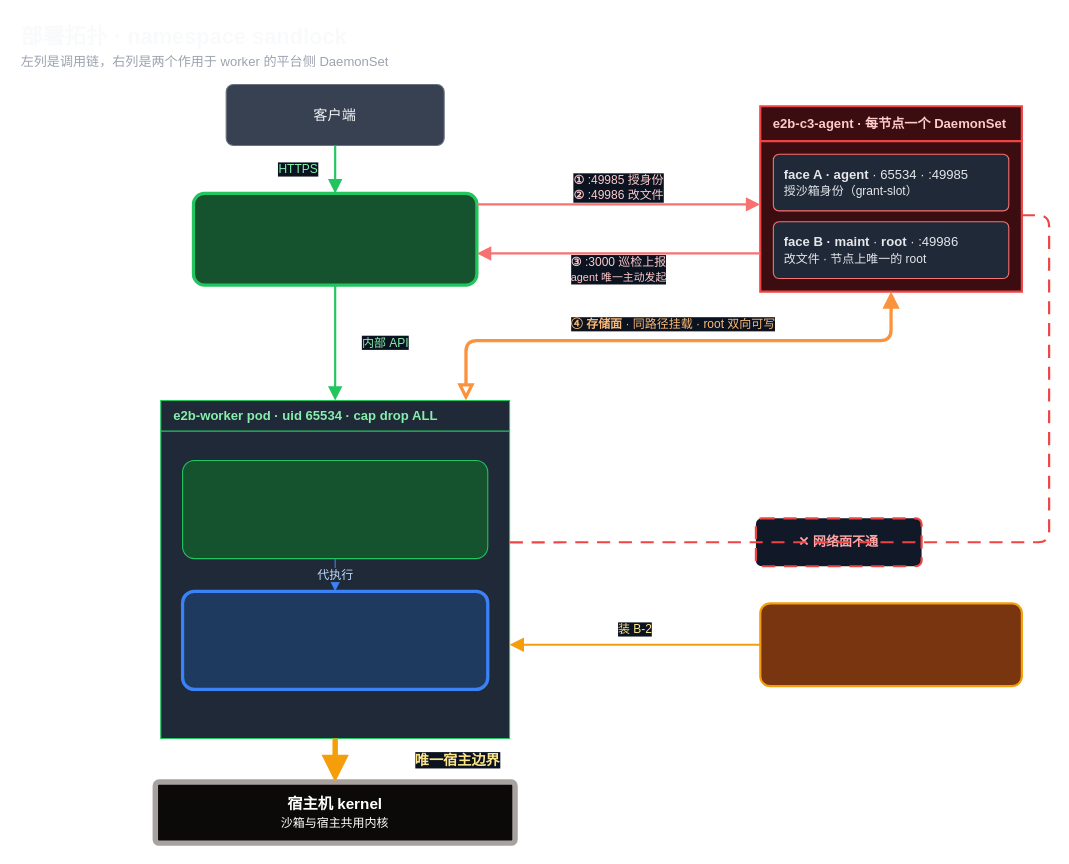
This 1069x864 diagram has some shape labels left out. The shapes that lost their labels are listed below. From the top down, each one's centre as x and y in pixels, then its label:
At [334,238]: "control-plane 对外唯一入口".
At [334,509]: "supervisor 路径翻译 · /proc 合成 · netlink 虚拟 · 代执行".
At [334,640]: "沙箱 独立 pid / net ns · uid 池内独占".
At [890,644]: "seccomp-installer 安装 B-2 profile".
